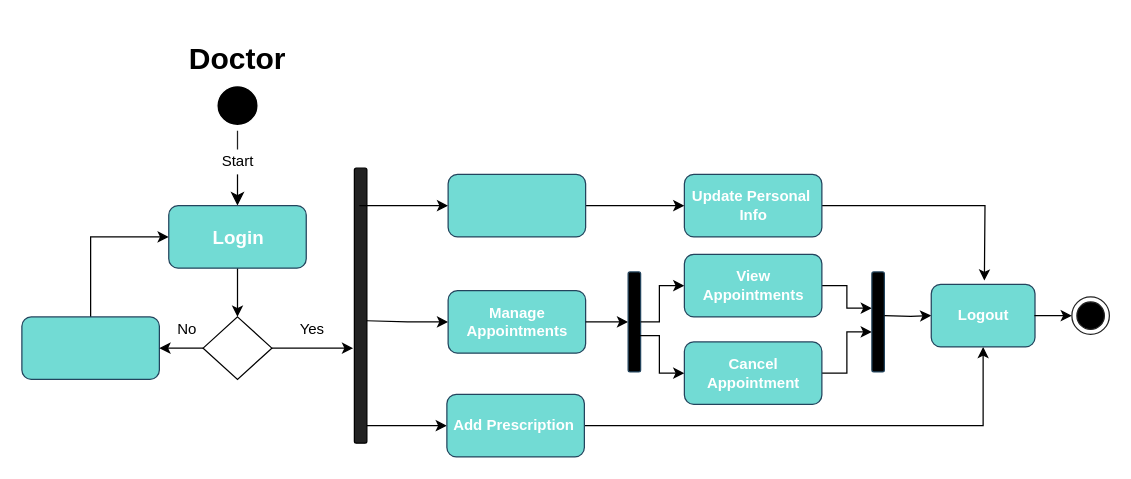
This 1131x479 diagram has some shape labels left out. Here are the shapes that lost their labels. From the top down, the centre of each, then its label:
the point at 516,205: View Personal Info
the point at 90,347: Forget Password
the point at 237,347: Valid
